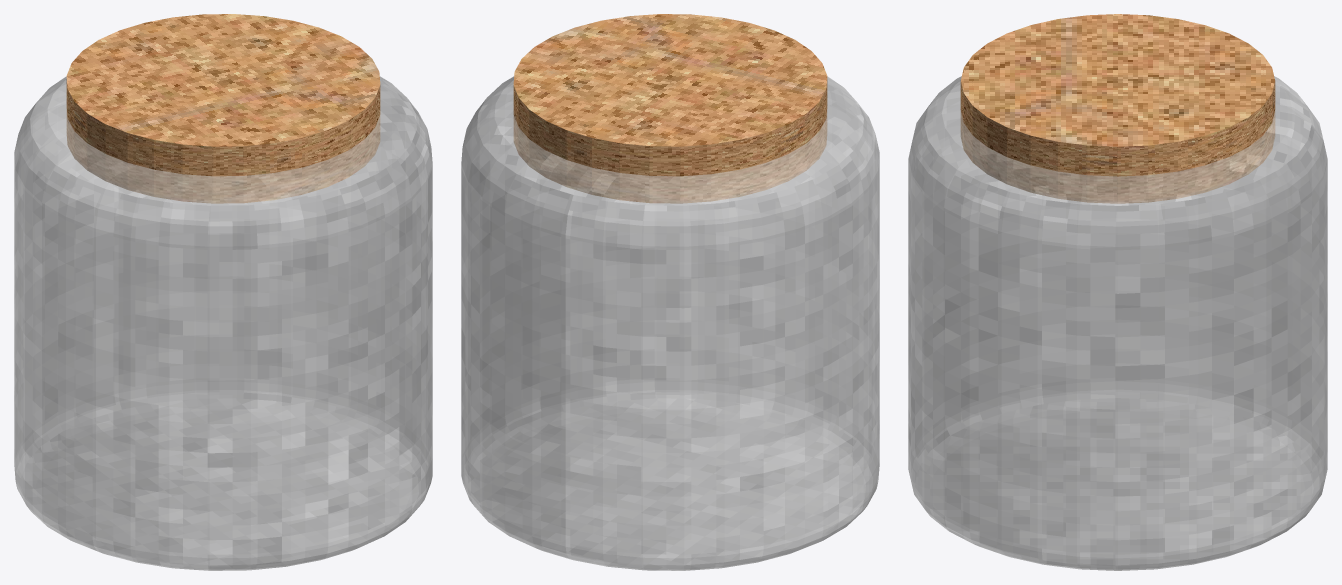
The model's file is buatt.glb.
The picture shows the model from 3 angles, left to right: view 1: azimuth 30°, elevation 25°; view 2: azimuth 150°, elevation 25°; view 3: azimuth 270°, elevation 25°; orthographic projection.
Visible parts, largest first — view 1: Cylinder, Cylinder.001; view 2: Cylinder, Cylinder.001; view 3: Cylinder, Cylinder.001.
Boxes of the visible parts, x1,y1,x2,y2 form: Cylinder: [14, 76, 432, 570]; Cylinder.001: [66, 14, 380, 203]; Cylinder: [461, 76, 879, 570]; Cylinder.001: [513, 14, 827, 203]; Cylinder: [908, 76, 1327, 570]; Cylinder.001: [960, 14, 1275, 203].
Size of the model in its own units: 2 by 2.15 by 2.
Materials: 2 (2 with a texture image).
